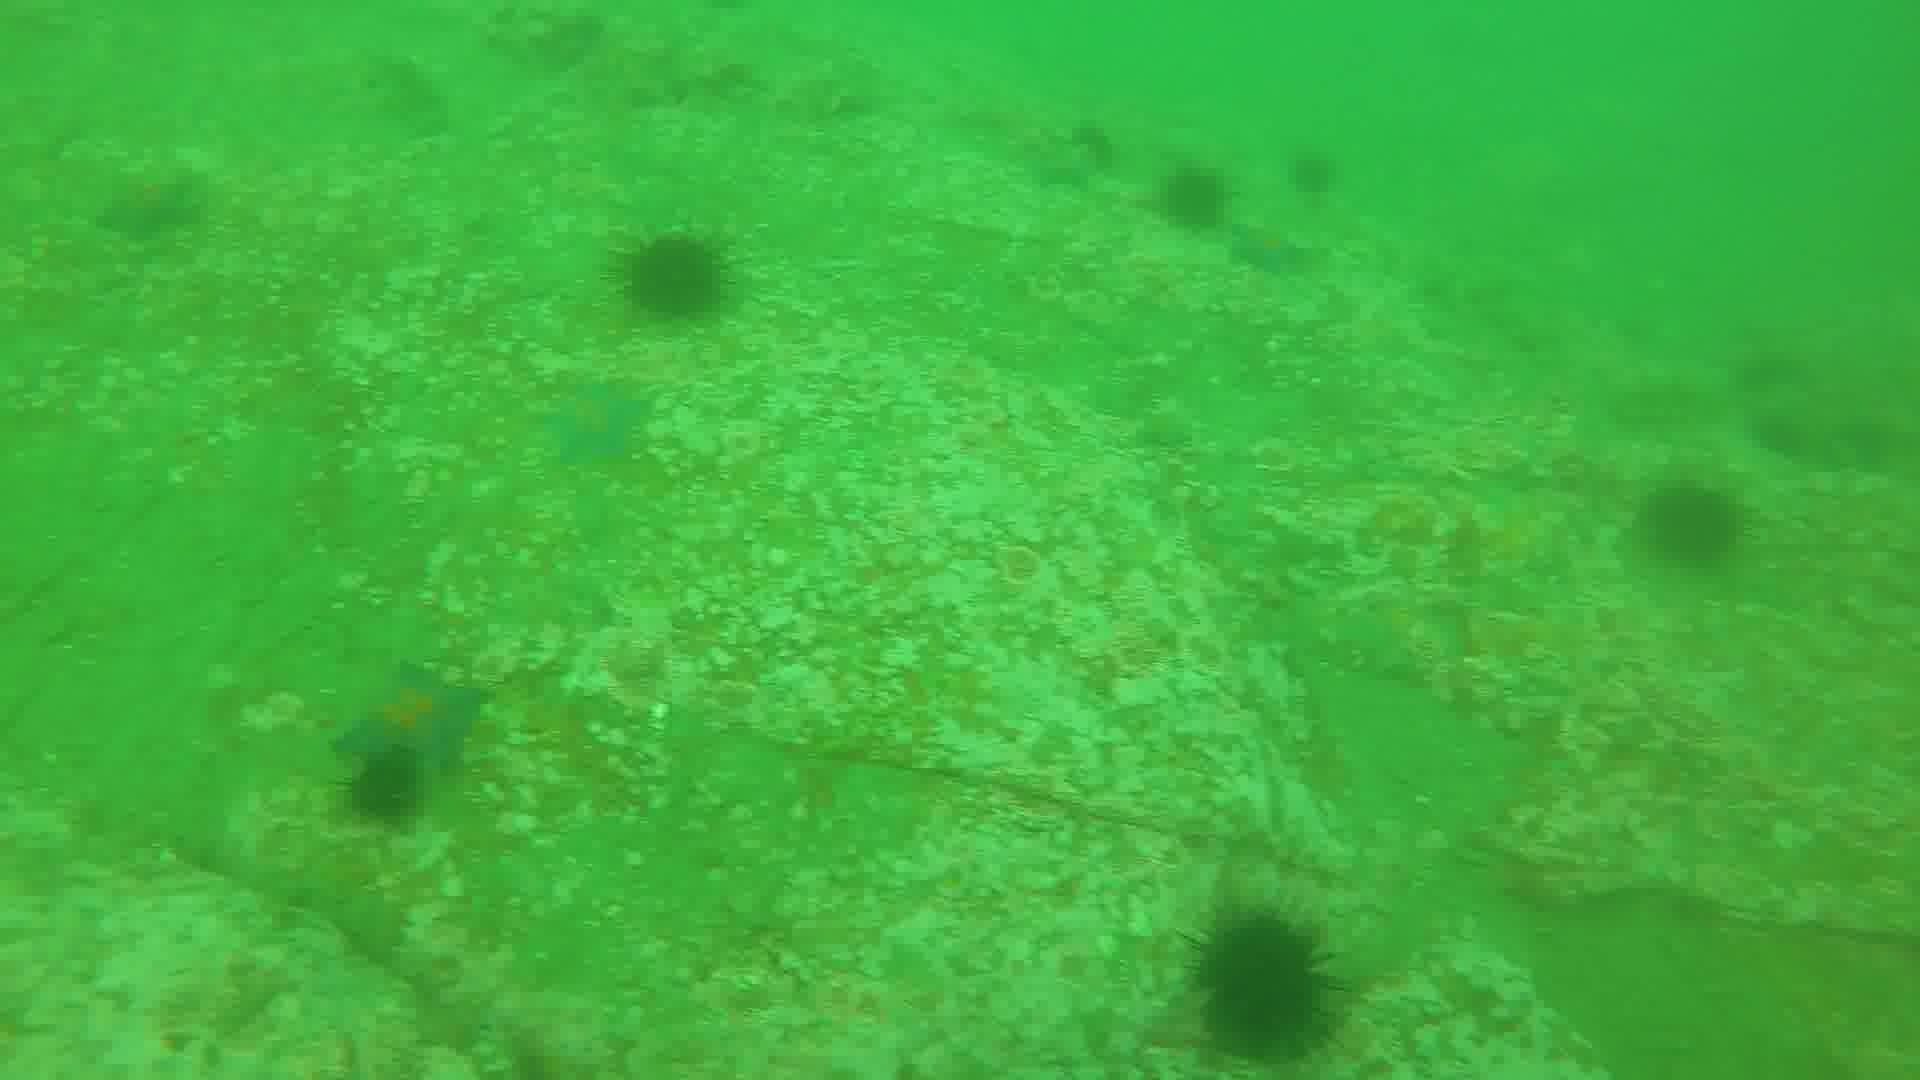echinus: (1182, 913, 1331, 1065), (625, 233, 733, 324), (1648, 473, 1739, 564), (361, 752, 429, 829), (1158, 165, 1220, 231), (1302, 153, 1335, 193)
starfish: (342, 659, 488, 769), (538, 363, 657, 459), (102, 177, 214, 240), (1222, 216, 1319, 282)
